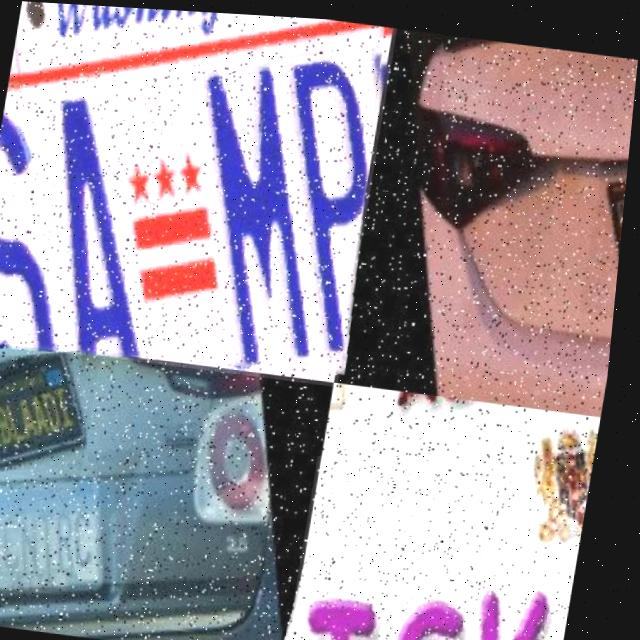LicensePlate: (0, 0, 397, 382), (296, 450, 598, 640), (0, 340, 107, 480), (583, 147, 631, 309)
